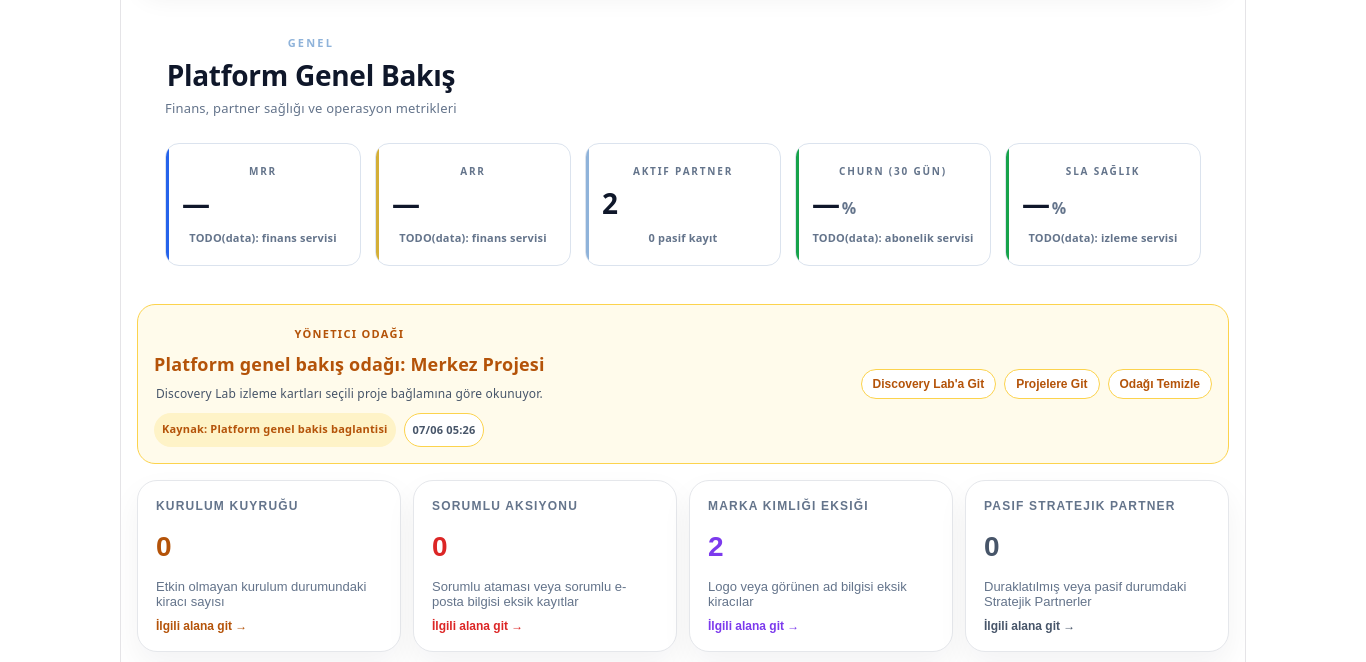
Scenario: AdminPage tenant governance permissions › platform genel bakista deep-link odagini ortak focus banner ile gosterir
(page scrolled)
expect the element with test id "admin-focus-banner-platform-overview" is shown: met, box [137,304,1229,464]
expect the text "Kaynak: Platform genel bakis baglantisi" is shown: met, box [154,413,396,447]
Click the button "Discovery Lab'a Git": (928, 384) [861,369,996,399]
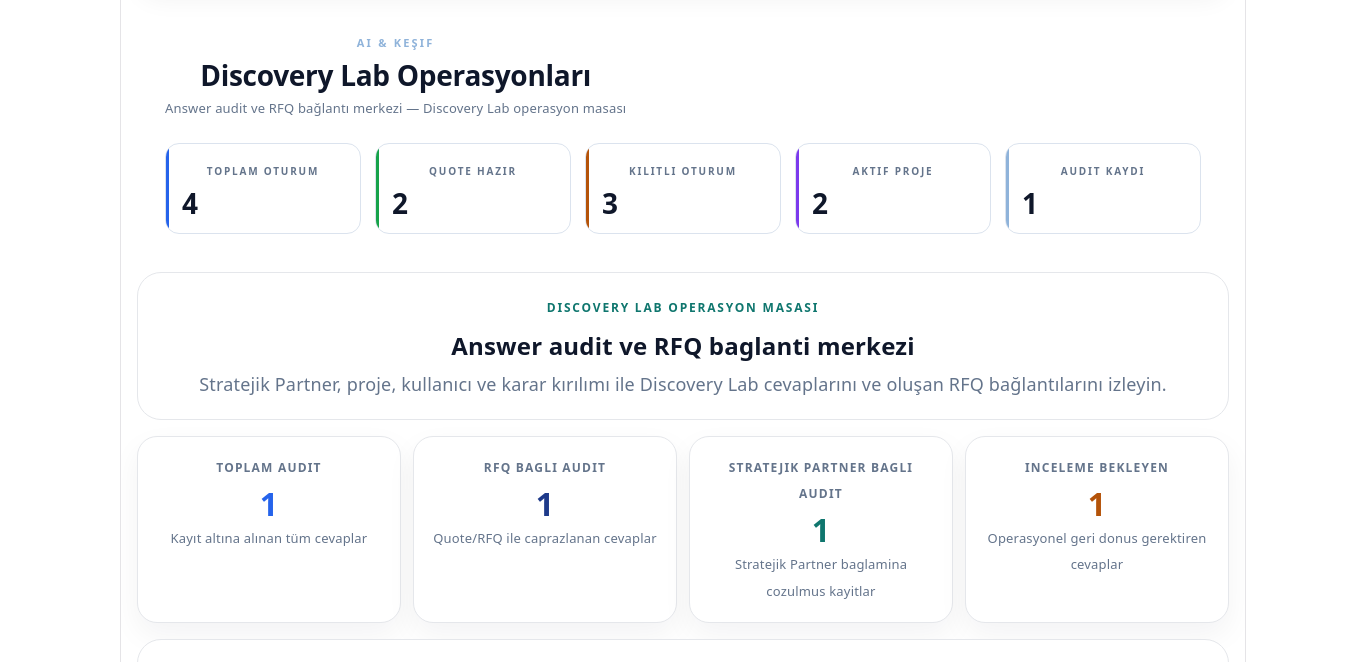
expect the text "Answer audit ve RFQ baglanti merkezi" is shown: met, box [451,329,915,362]
